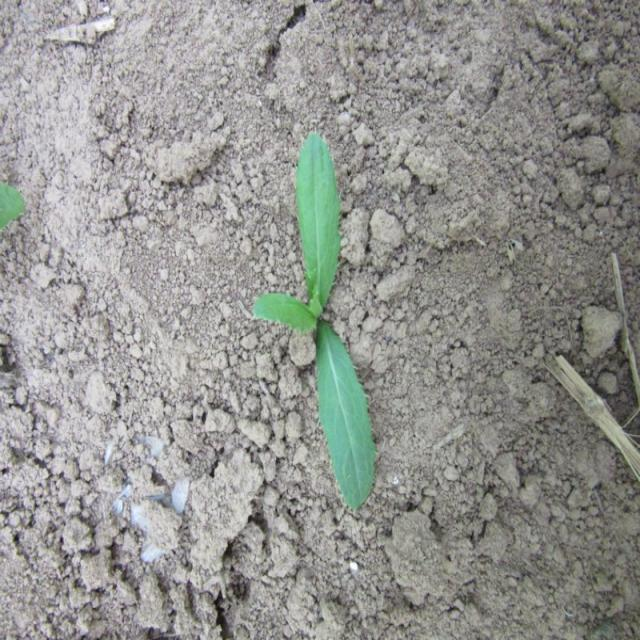field_thistle: (218, 122, 405, 511)
